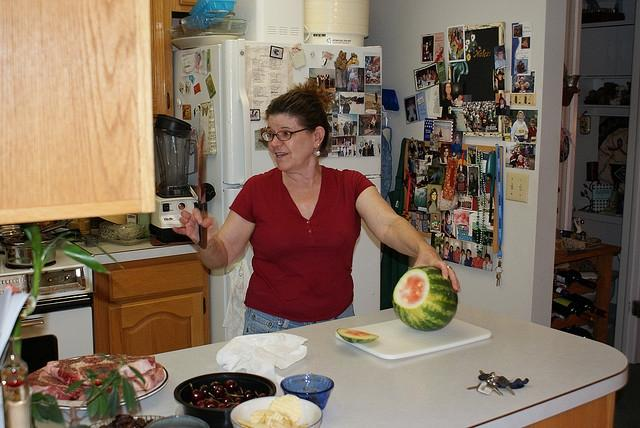cherry: (213, 386, 244, 398), (190, 384, 202, 402), (200, 385, 215, 398), (225, 380, 238, 394), (210, 381, 220, 390), (255, 390, 266, 398), (223, 394, 232, 403), (217, 402, 230, 408), (204, 396, 216, 402), (205, 400, 216, 406)
watermelon: (392, 266, 458, 332), (337, 328, 379, 343)
